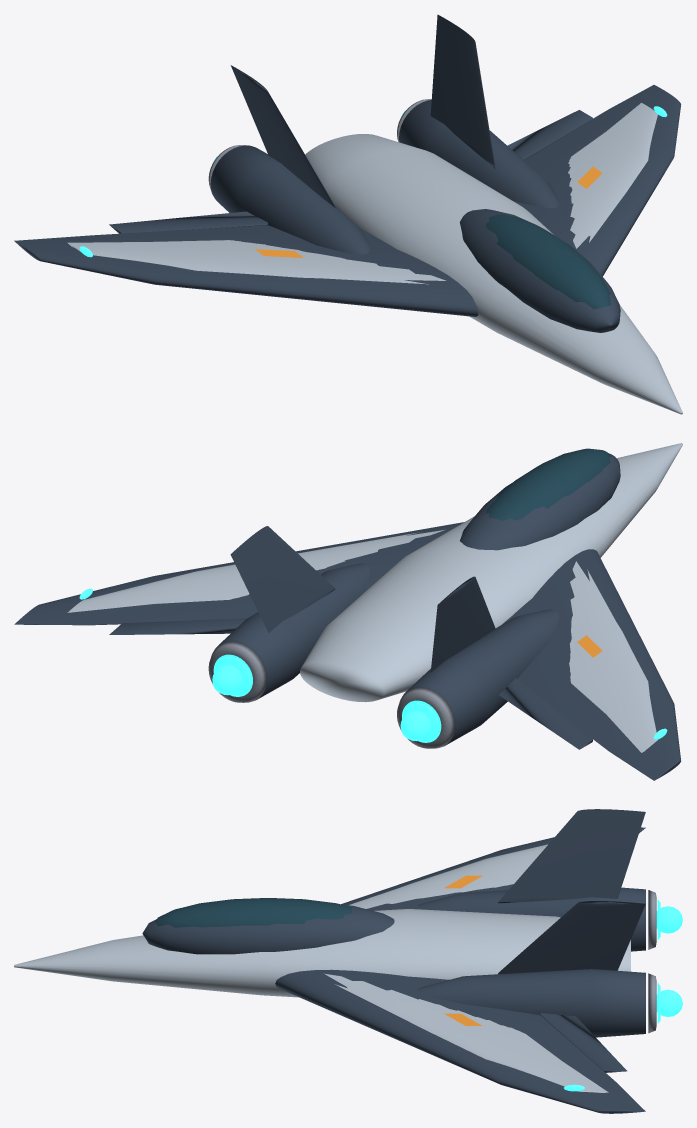
Rendered from wayfarer.glb.
3 views of the same model, one above another, from view 1: azimuth 30°, elevation 25°; view 2: azimuth 150°, elevation 25°; view 3: azimuth 270°, elevation 25° (orthographic). The views are drawn at different scales.
Parts seen in each view (by area): view 1: wayfarer, ElevonR, ElevonL; view 2: wayfarer, ElevonR, ElevonL; view 3: wayfarer, ElevonL.
Part boxes in pixels (x1,y1,x2,y2): wayfarer: [14, 14, 682, 414]; ElevonR: [109, 211, 267, 233]; ElevonL: [507, 110, 592, 159]; wayfarer: [14, 443, 682, 780]; ElevonR: [499, 678, 592, 749]; ElevonL: [109, 618, 246, 634]; wayfarer: [14, 809, 682, 1113]; ElevonL: [541, 1013, 627, 1072].
Bounding box in the file's own units: 13.6 × 3.08 × 13.55.
